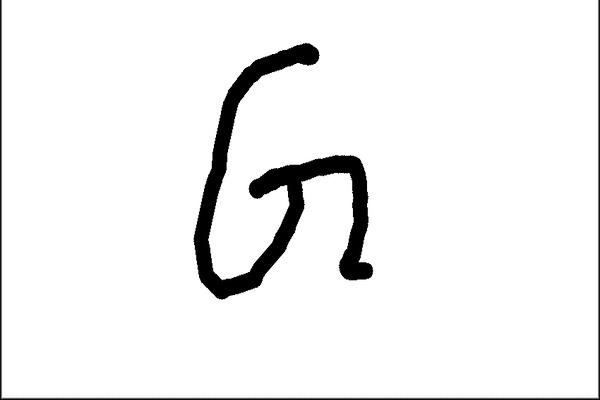G: (184, 39, 378, 300)
